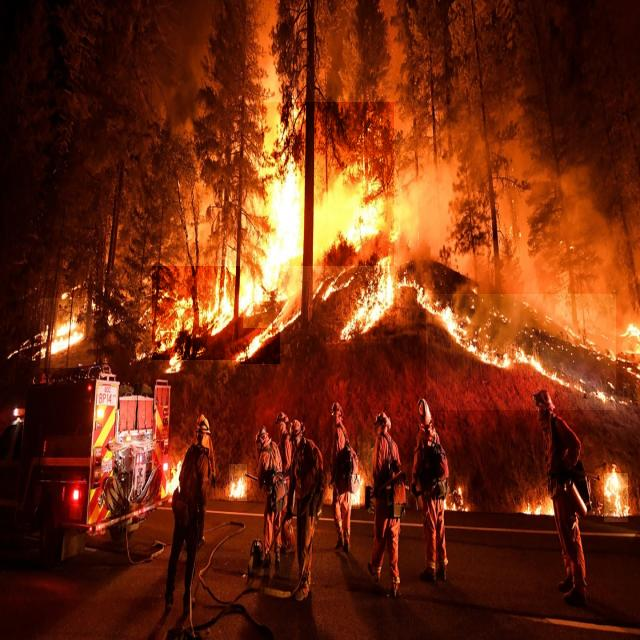Fire: (426, 294, 616, 410), (262, 102, 394, 266), (152, 266, 243, 360), (40, 298, 94, 368), (349, 274, 396, 342), (240, 328, 280, 364), (604, 473, 628, 522), (229, 464, 247, 501), (348, 475, 361, 509), (170, 469, 180, 487)
